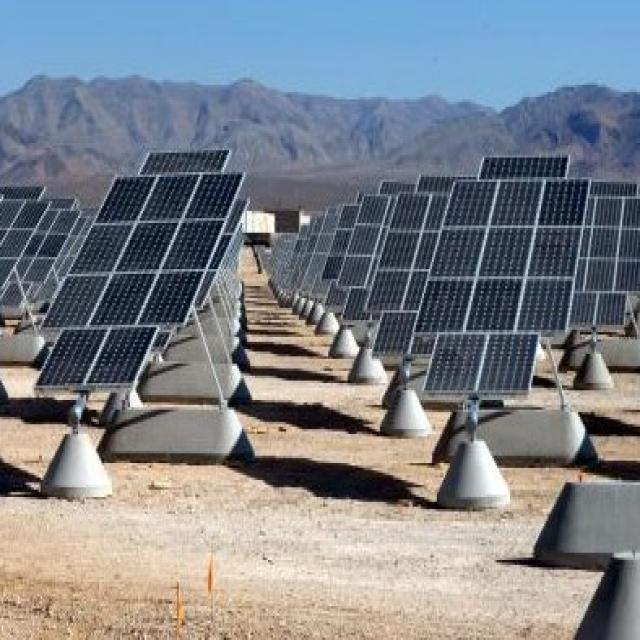dust-solar-panel: (271, 157, 640, 395), (39, 151, 244, 388)
